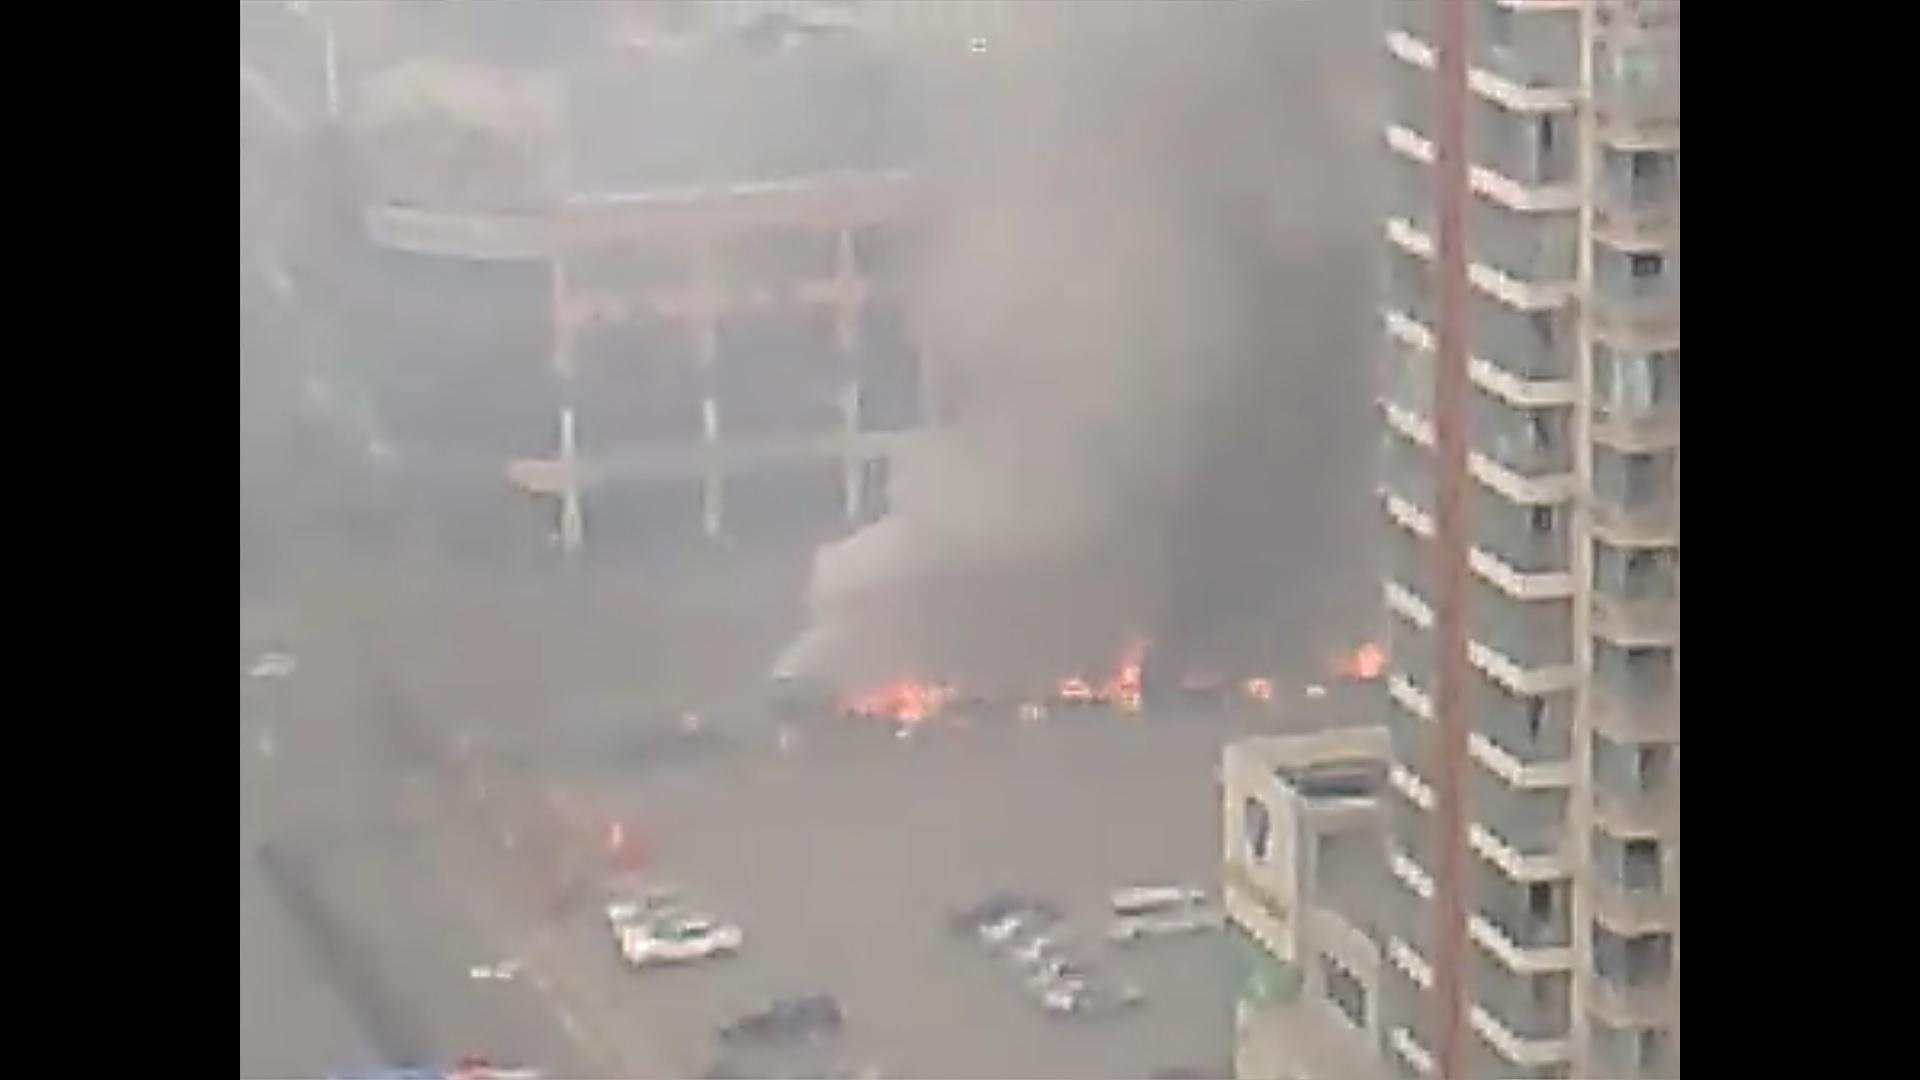fire: (1055, 651, 1149, 709), (851, 670, 945, 723), (1342, 634, 1389, 678)
